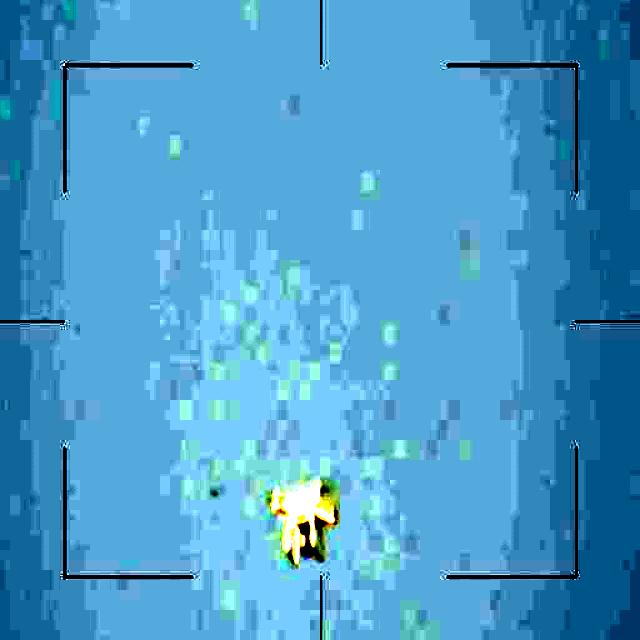bird: (259, 475, 345, 568)
